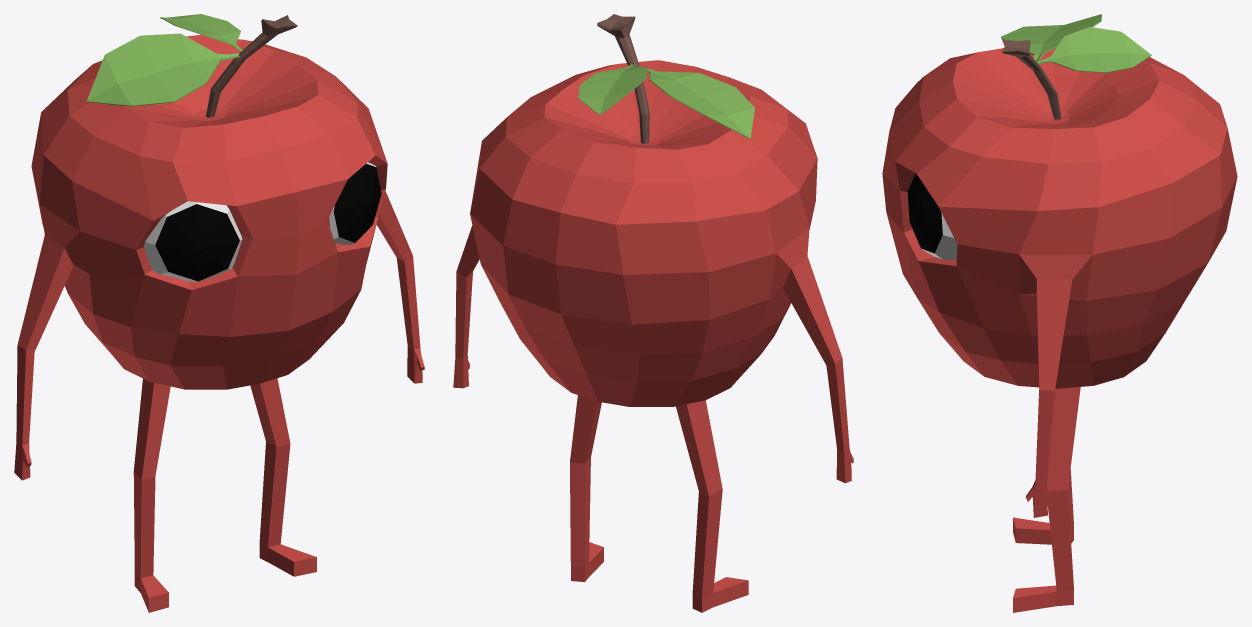
The model's file is apple-creature.glb.
3 views of the same model, side by side, from view 1: azimuth 30°, elevation 25°; view 2: azimuth 150°, elevation 25°; view 3: azimuth 270°, elevation 25° (orthographic). The views are drawn at different scales.
Parts seen in each view (by area): view 1: Sphere_8, Plane.001_3, Sphere.002_7, Sphere.001_6, Cube.001_5, Plane.002_4; view 2: Sphere_8, Plane.001_3, Plane.002_4, Cube.001_5; view 3: Sphere_8, Plane.002_4, Sphere.001_6, Plane.001_3, Cube.001_5.
Part boxes in pixels (x1,y1,x2,y2): Sphere_8: (14,34,424,612); Plane.001_3: (86,33,239,106); Sphere.002_7: (144,201,242,281); Sphere.001_6: (329,162,381,244); Cube.001_5: (206,15,297,117); Plane.002_4: (160,14,242,51); Sphere_8: (453,60,853,612); Plane.001_3: (636,66,754,138); Plane.002_4: (578,64,647,115); Cube.001_5: (597,14,649,143); Sphere_8: (882,47,1237,612); Plane.002_4: (1037,27,1151,72); Sphere.001_6: (907,173,957,259); Plane.001_3: (1001,14,1101,61); Cube.001_5: (1002,39,1061,119).
Size of the model in its own units: 1.32 by 1.76 by 1.03.
